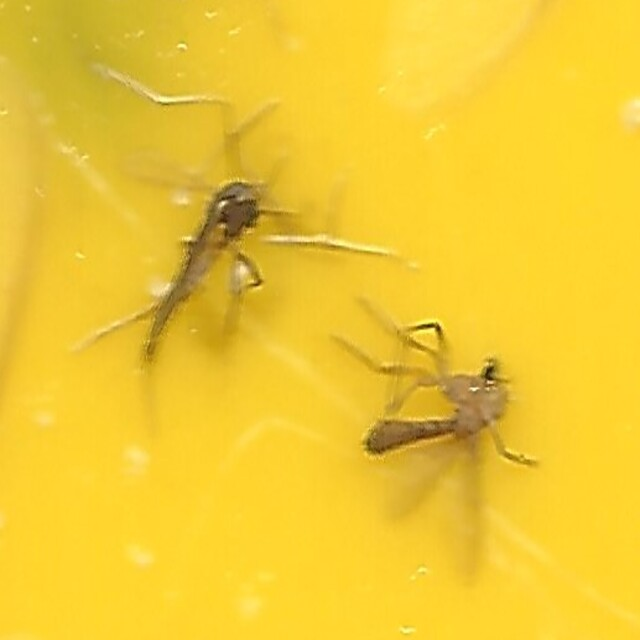Nematocera: (124, 175, 260, 366), (365, 352, 516, 465)
